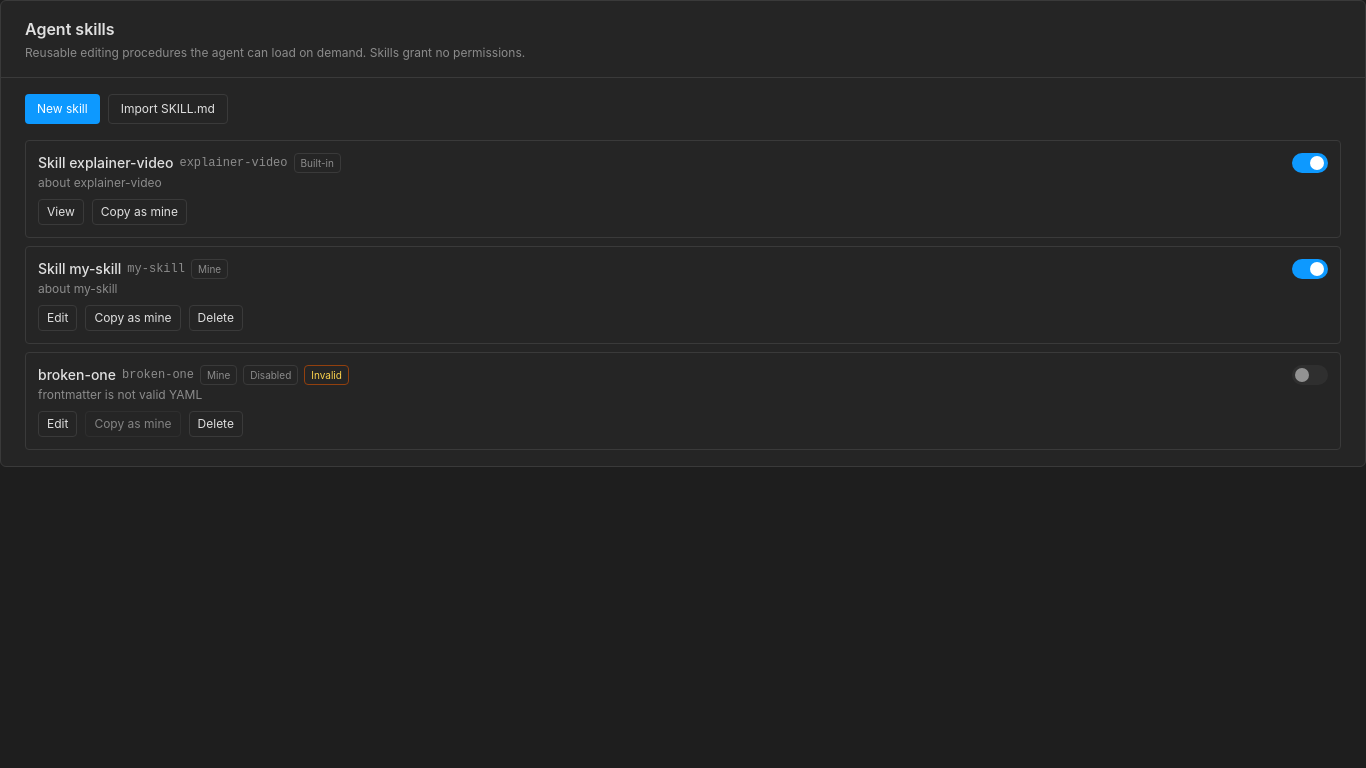
AgentSkillsSettingsPanel › surfaces an action failure as an alert
Click the switch named "Enable skill Skill my-skill" at (1310, 269), box [1292, 259, 1328, 279]
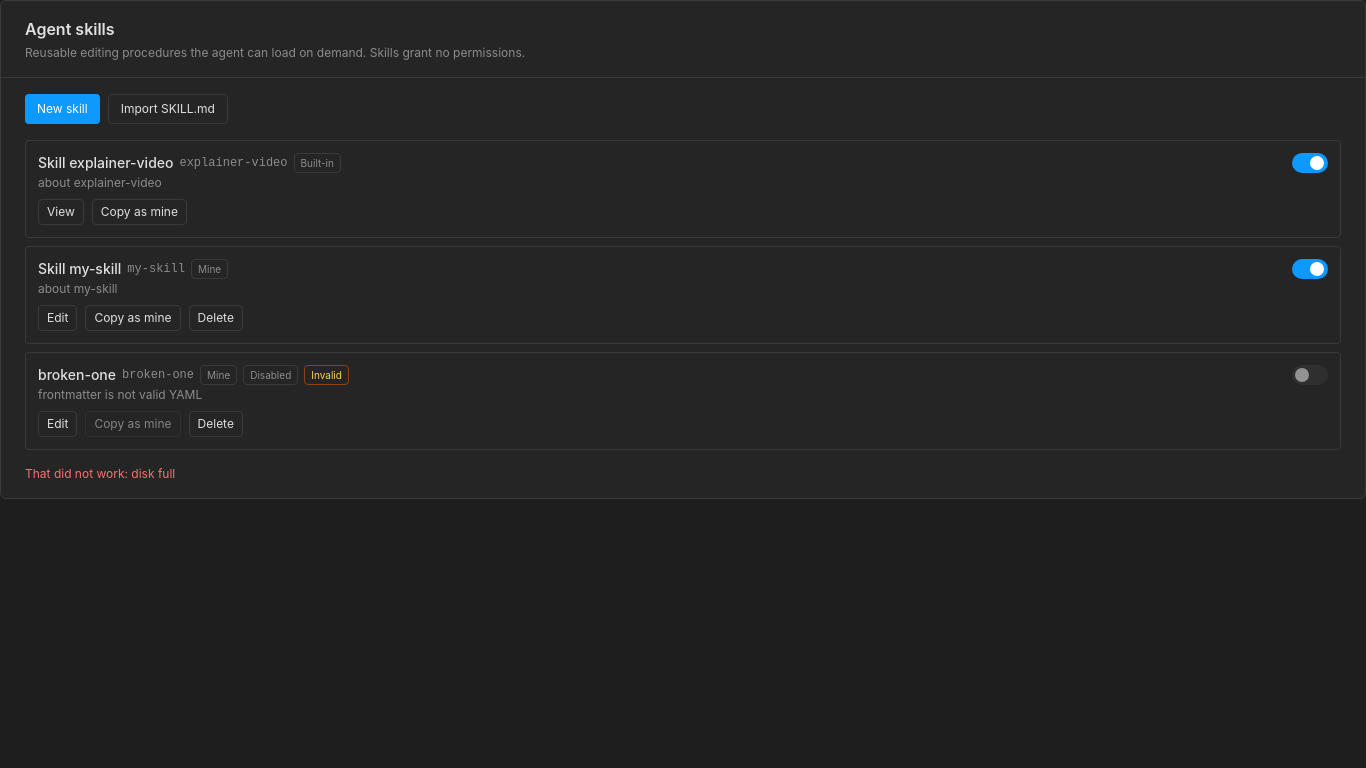
Expected: the message shows "disk full", [25, 466, 175, 481]
